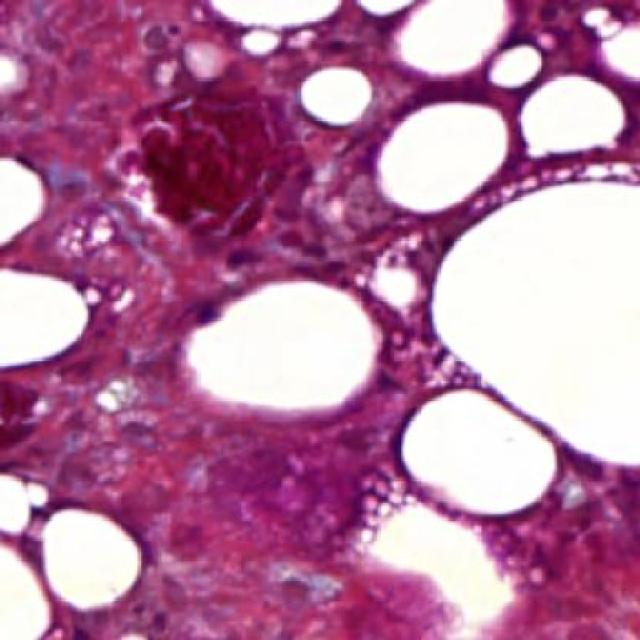steatosis: (393, 374, 554, 511), (366, 94, 517, 211), (34, 509, 152, 608), (294, 63, 378, 124)
